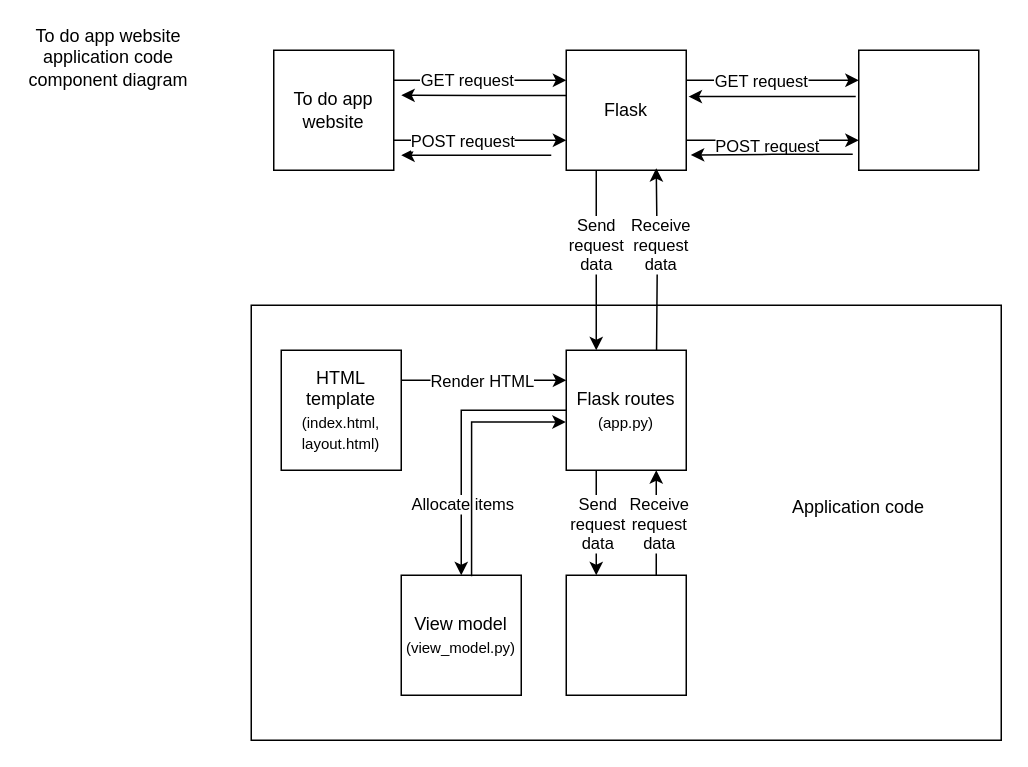
The diagram is 1028 pixels wide and 767 high, and some of its shapes have lost their labels. The centre of each missing label's shape, as x and y in pixels:
Item functions (trello_items.py, item.py): pixel 625 634
Trello API: pixel 918 109
